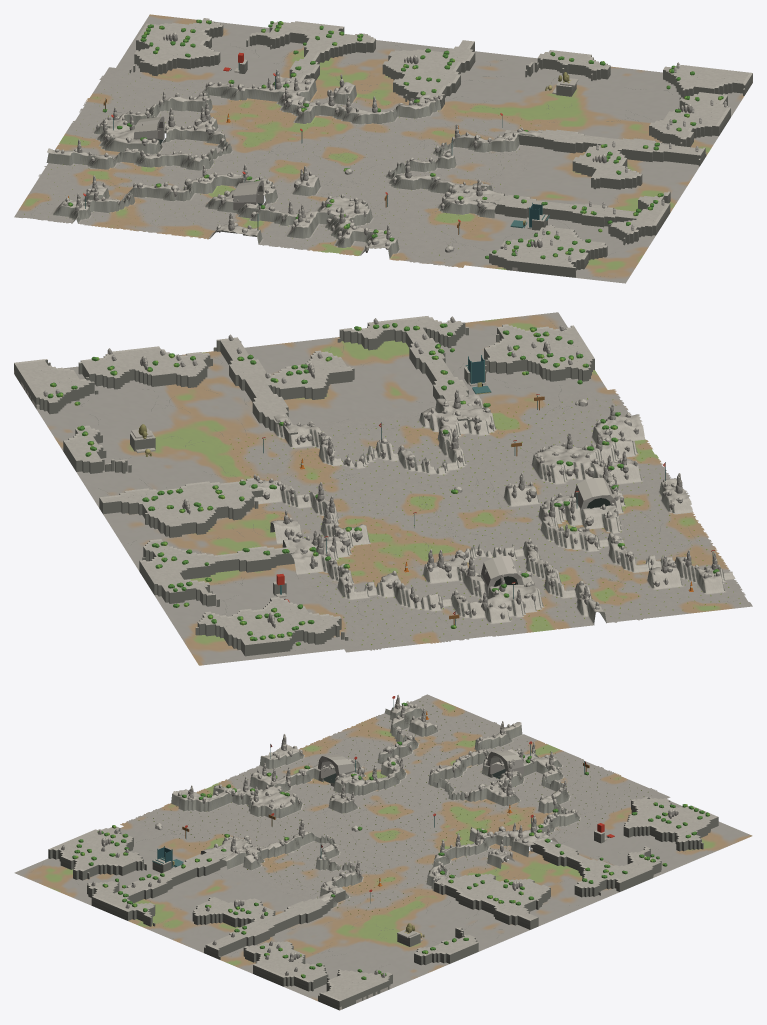
The model's file is terrain-props.glb.
3 views of the same model, one above another, from view 1: azimuth 30°, elevation 25°; view 2: azimuth 150°, elevation 25°; view 3: azimuth 270°, elevation 25° (orthographic). The views are drawn at different scales.
Visible parts, largest first — view 1: HM14-source-adapted-terrain-props; view 2: HM14-source-adapted-terrain-props; view 3: HM14-source-adapted-terrain-props.
Part boxes in pixels (x1,y1,x2,y2): HM14-source-adapted-terrain-props: (14, 14, 752, 283); HM14-source-adapted-terrain-props: (14, 312, 752, 665); HM14-source-adapted-terrain-props: (14, 694, 752, 1010).
Bounding box in the file's own units: 146 × 6.69 × 144.
